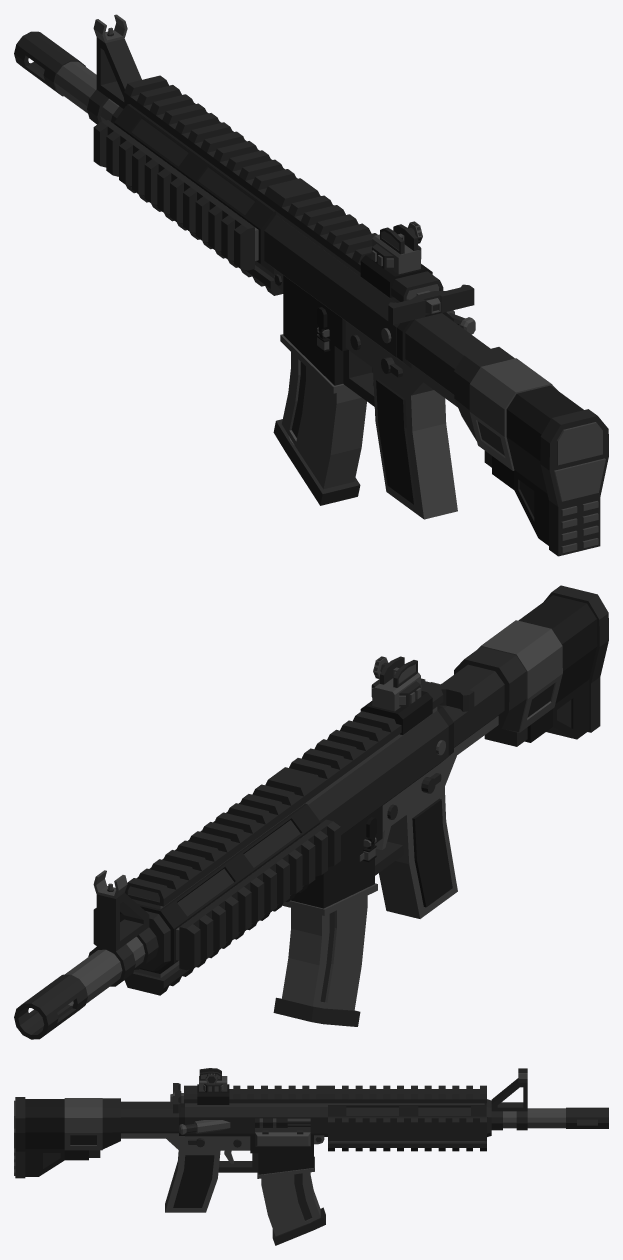
Rendered from ar-15-named-nodes.glb.
3 renders of one model, top to bottom at view 1: azimuth 30°, elevation 25°; view 2: azimuth 150°, elevation 25°; view 3: azimuth 270°, elevation 25°, orthographic. The views are drawn at different scales.
Parts seen in each view (by area): view 1: AR-15, AR-15 Mag, AR-15 charging handle; view 2: AR-15, AR-15 Mag, AR-15 charging handle; view 3: AR-15, AR-15 Mag, AR-15 chamber, AR-15 charging handle.
Boxes of the visible parts, x1,y1,x2,y2 form: AR-15: (14, 14, 608, 556); AR-15 Mag: (273, 352, 366, 505); AR-15 charging handle: (388, 284, 474, 324); AR-15: (14, 585, 608, 1039); AR-15 Mag: (273, 895, 367, 1026); AR-15 charging handle: (421, 678, 474, 711); AR-15: (14, 1068, 608, 1212); AR-15 Mag: (261, 1172, 325, 1245); AR-15 chamber: (255, 1118, 310, 1127); AR-15 charging handle: (170, 1083, 183, 1113).
Size of the model in its own units: 0.2565 by 0.7712 by 2.42.
1 material, 1 textured.
